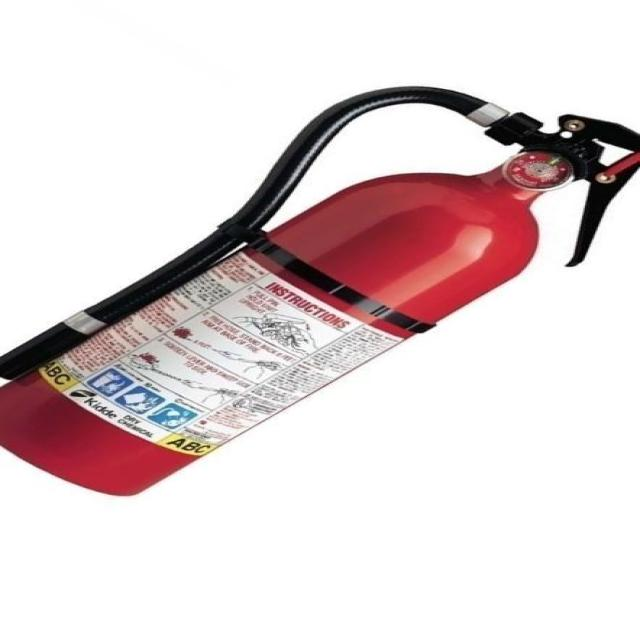fire_extinguisher: (0, 77, 639, 503)
